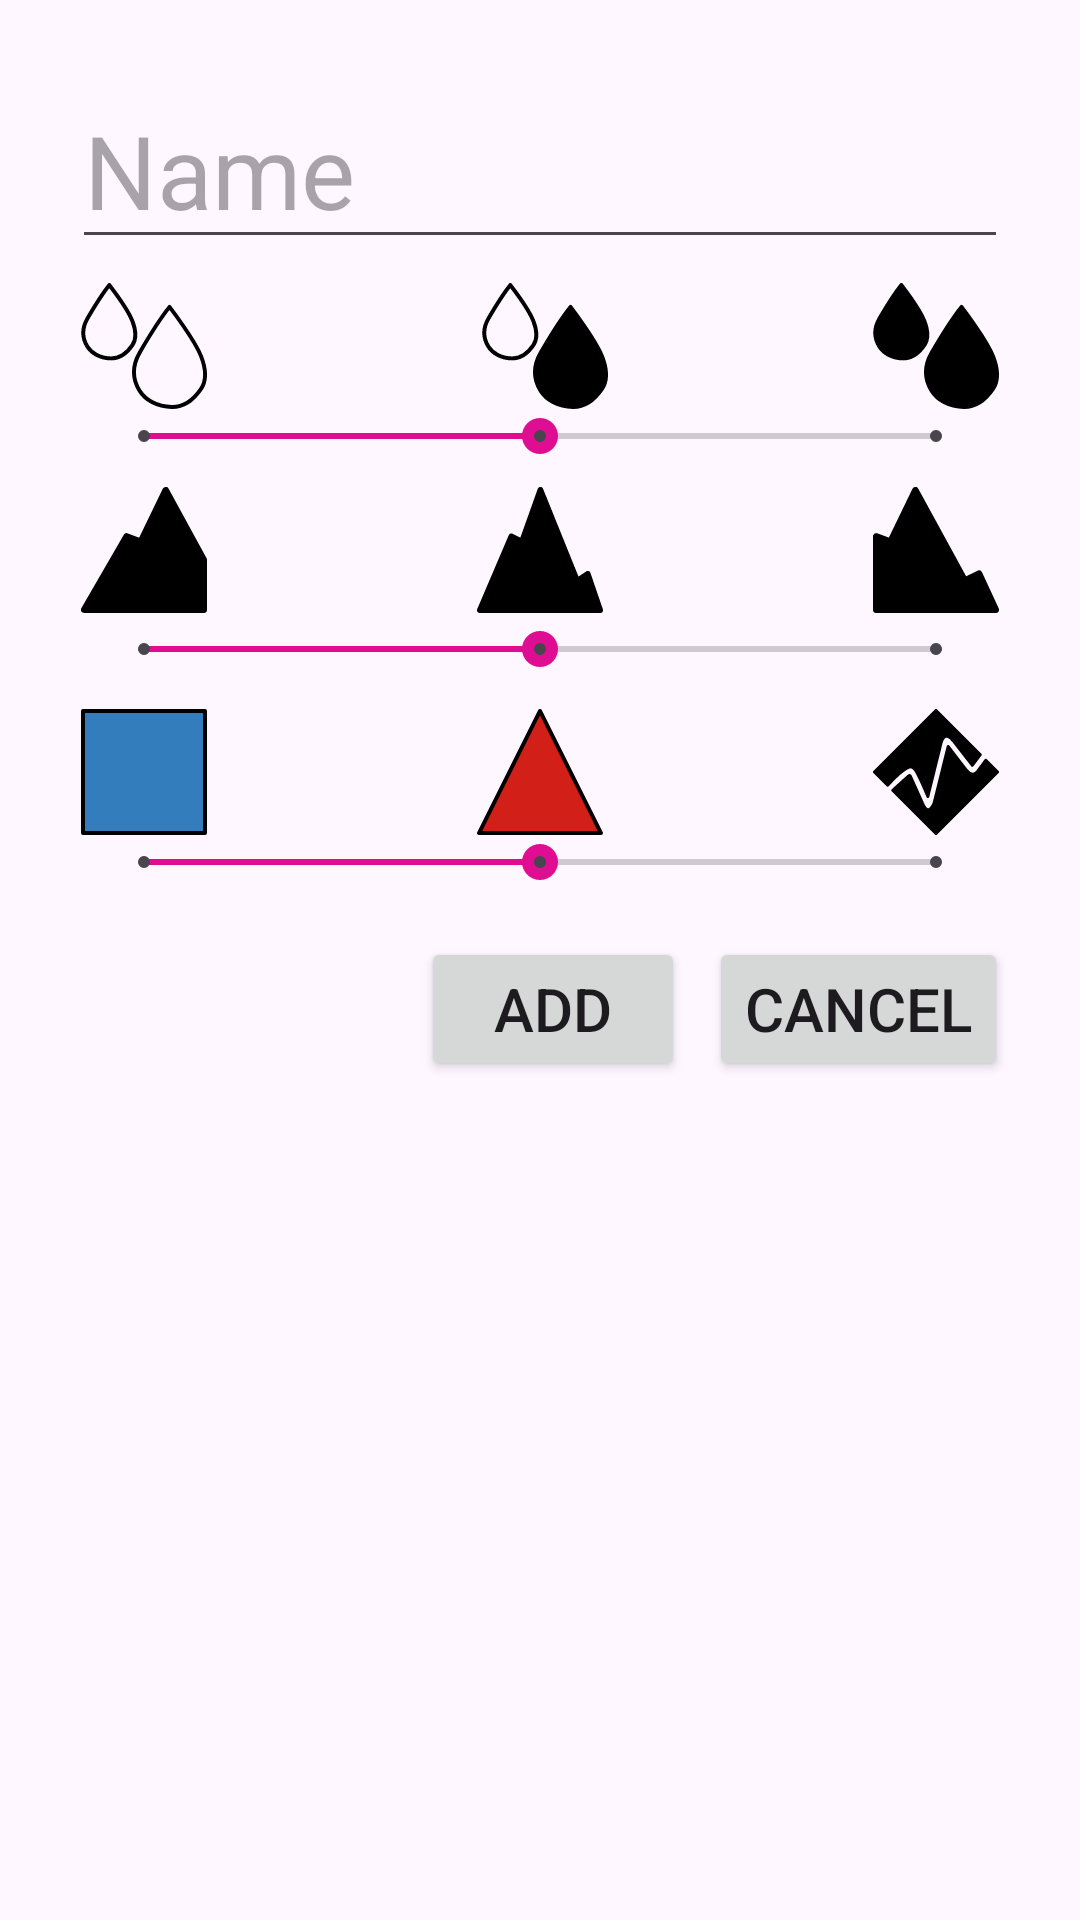

Icon bounding boxes for this 1080w x 1920h phone screenshot, format BBox(x1, y1, x2, y2):
All-mountain: BBox(477, 487, 603, 613)
Downhill: BBox(873, 487, 999, 613)
Dry: BBox(81, 283, 207, 409)
Rough: BBox(873, 709, 999, 835)
Semidry: BBox(482, 283, 608, 409)
Uphill: BBox(81, 487, 207, 613)
Wet: BBox(873, 283, 999, 409)
